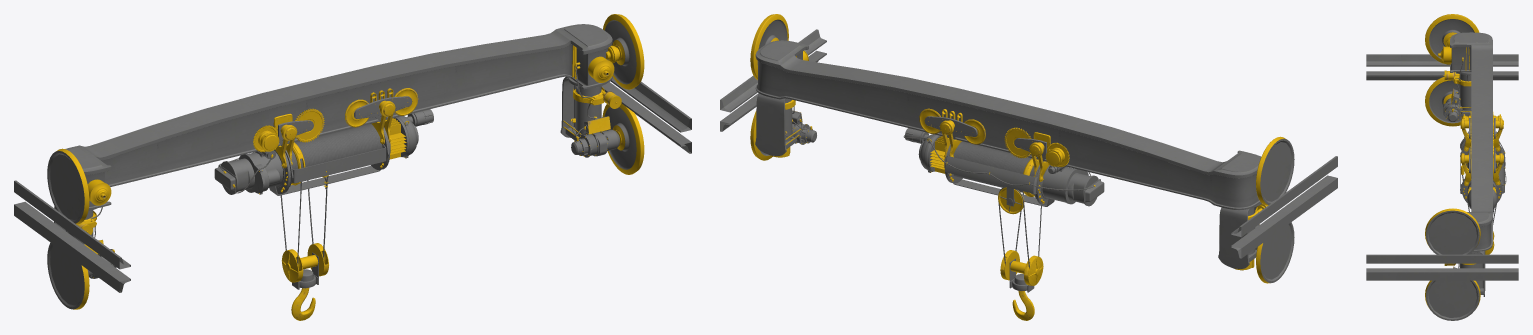
Rendered from overhead_crane.glb.
3 renders of one model, left to right at view 1: azimuth 30°, elevation 25°; view 2: azimuth 150°, elevation 25°; view 3: azimuth 270°, elevation 25°, orthographic. The views are drawn at different scales.
Visible parts, largest first — view 1: overhead_crane, overhead_crane_winch, overhead_crane_rails; view 2: overhead_crane, overhead_crane_winch, overhead_crane_rails; view 3: overhead_crane, overhead_crane_rails, overhead_crane_winch.
Part boxes in pixels (<box>): overhead_crane: <box>47,14,644,309</box>; overhead_crane_winch: <box>214,88,433,320</box>; overhead_crane_rails: <box>14,77,691,292</box>; overhead_crane: <box>750,14,1294,283</box>; overhead_crane_winch: <box>903,108,1104,320</box>; overhead_crane_rails: <box>720,29,1337,258</box>; overhead_crane: <box>1425,14,1492,320</box>; overhead_crane_rails: <box>1366,54,1518,280</box>; overhead_crane_winch: <box>1460,112,1506,254</box>.
Bounding box in the file's own units: 12.49 × 5.13 × 4.
2 materials, 2 textured.
